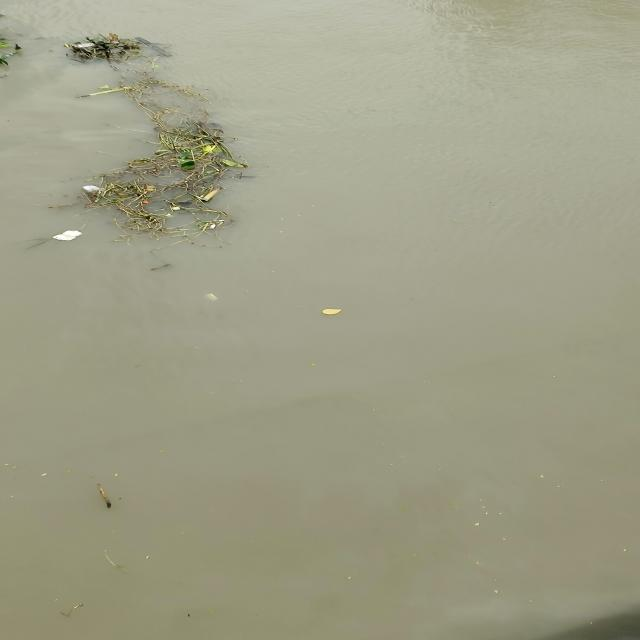Foamed Plastic: (48, 227, 92, 242), (76, 180, 105, 194)
Organic Debris: (46, 62, 280, 254), (61, 28, 185, 74), (0, 12, 26, 86), (127, 33, 183, 60)
Plastic: (196, 291, 229, 304), (73, 41, 97, 49), (138, 198, 149, 206), (210, 223, 218, 230)
